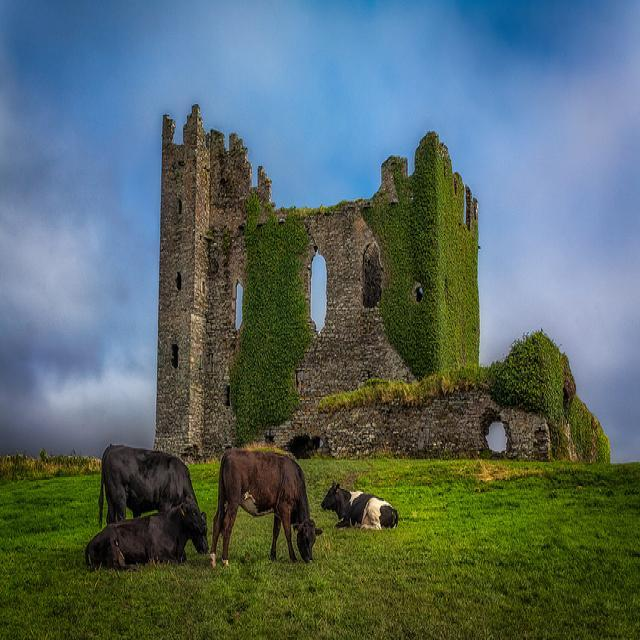cow: (207, 446, 321, 565), (97, 443, 207, 556), (82, 506, 202, 571), (320, 479, 396, 529)
